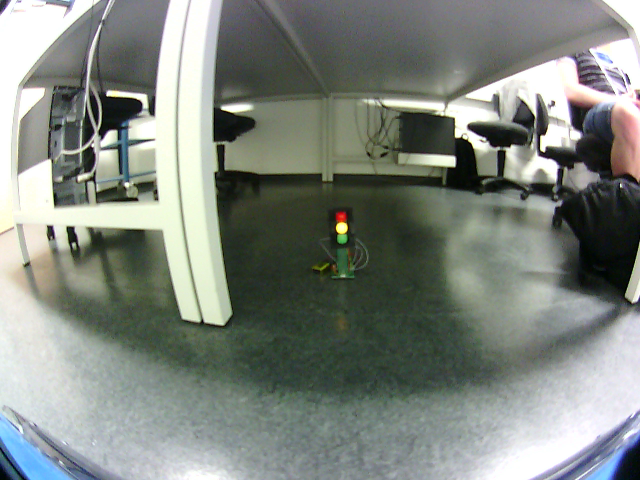yellow trafficlight: (335, 210, 351, 247)
